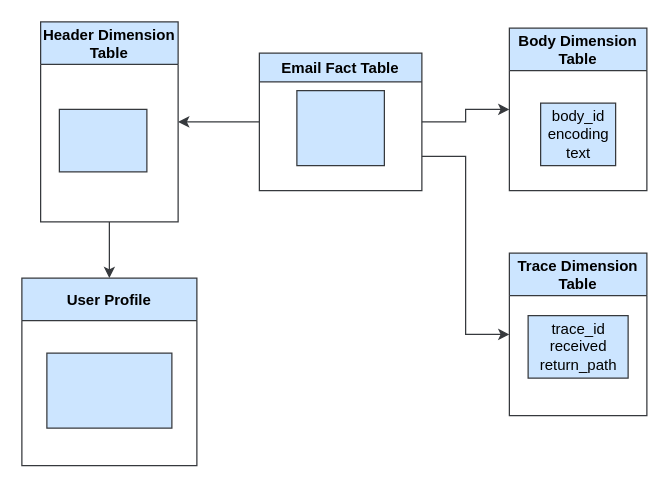
Some shapes in this 669 by 488 pixel diagram are drawn without their labels. Here are the shapes that lost their labels. From the top down, the box of each, then its label:
(58, 108, 147, 172): header_id sender subject
(296, 89, 384, 166): uuid header_id body_id trace_id
(46, 352, 172, 428): email first_name last_name contact_number
